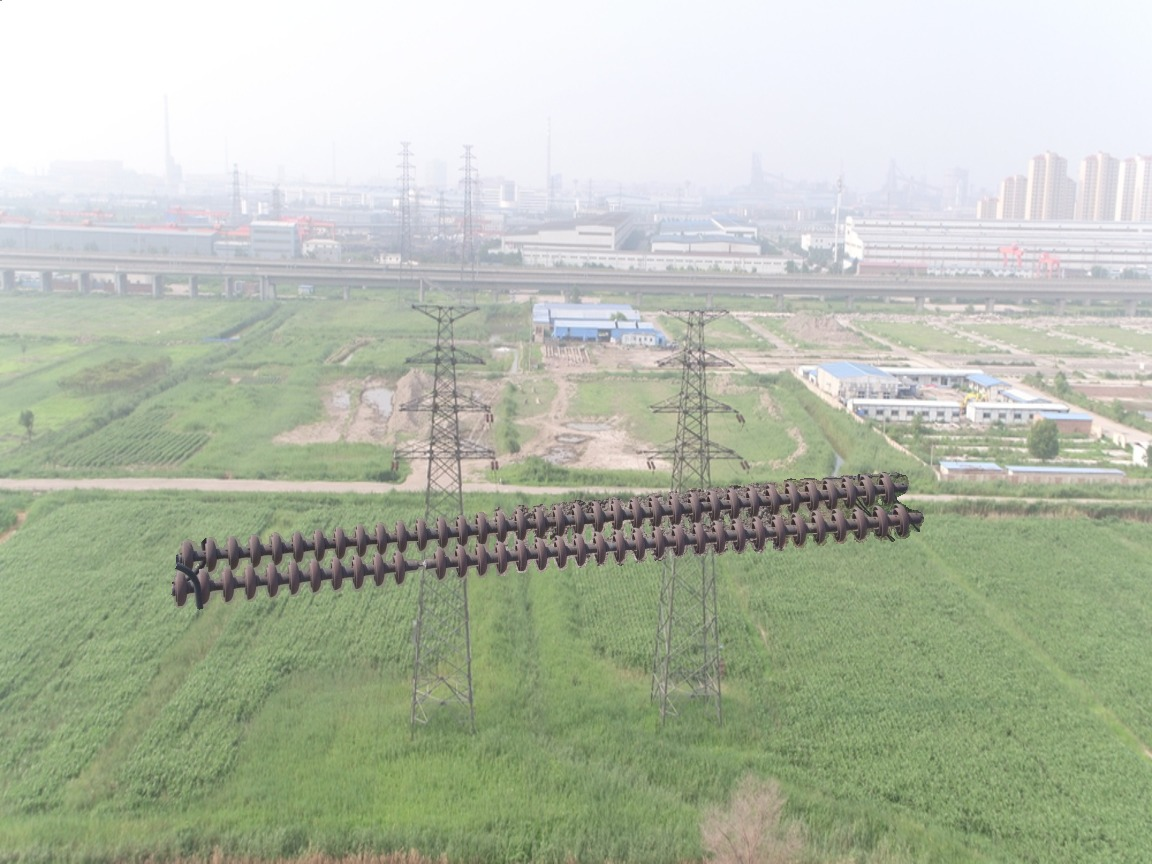defect: (387, 542, 452, 587)
